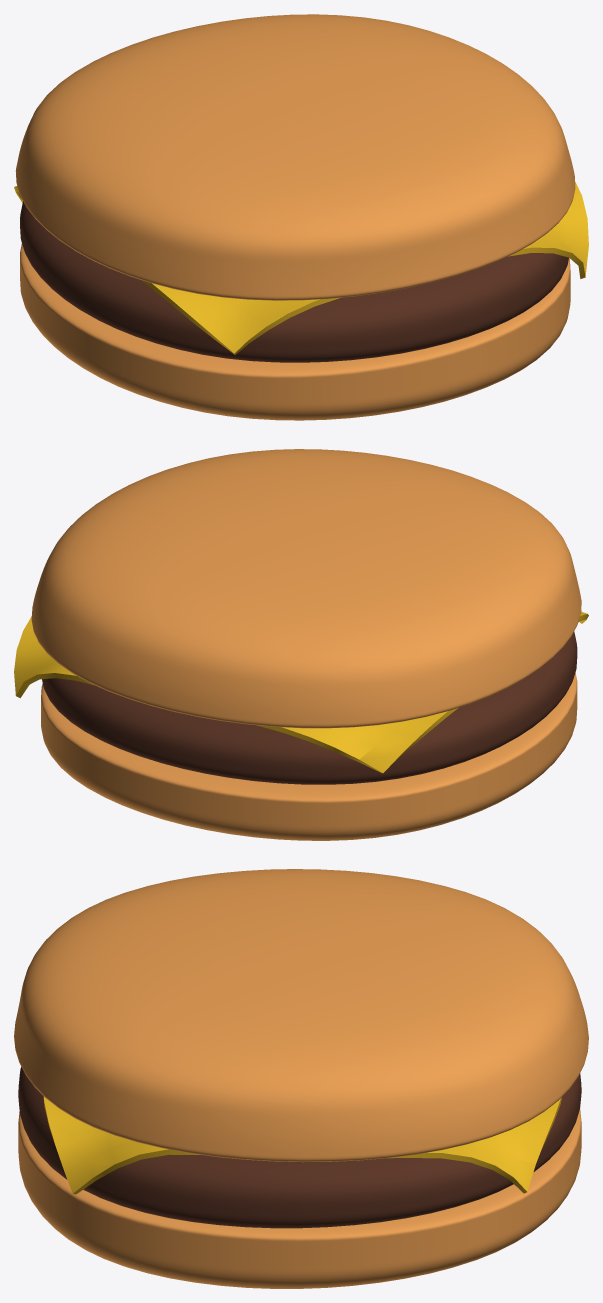
Rendered from hamburger.glb.
The picture shows the model from 3 angles, top to bottom: view 1: azimuth 30°, elevation 25°; view 2: azimuth 150°, elevation 25°; view 3: azimuth 270°, elevation 25°; orthographic projection. The views are drawn at different scales.
Visible parts, largest first — view 1: Cube.002, Cube, Cube.001, Plane; view 2: Cube.002, Cube, Cube.001, Plane; view 3: Cube.002, Cube, Cube.001, Plane.
Part boxes in pixels (x1,y1,x2,y2): Cube.002: [15, 14, 575, 300]; Cube: [20, 244, 570, 420]; Cube.001: [20, 201, 568, 362]; Plane: [14, 181, 588, 354]; Cube.002: [31, 449, 581, 728]; Cube: [41, 672, 577, 840]; Cube.001: [42, 631, 577, 784]; Plane: [14, 611, 588, 773]; Cube.002: [14, 869, 588, 1162]; Cube: [18, 1109, 581, 1288]; Cube.001: [18, 1067, 581, 1228]; Plane: [43, 1096, 561, 1194].
Size of the model in its own units: 7.58 by 3.61 by 7.58.
